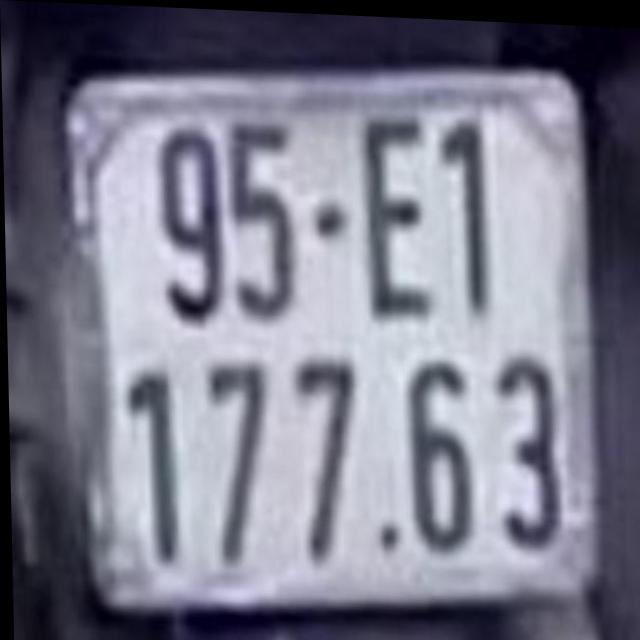1: (123, 372, 184, 556), (439, 120, 491, 299)
3: (499, 355, 560, 539)
5: (228, 124, 294, 319)
6: (406, 359, 474, 545)
7: (297, 352, 354, 569), (202, 353, 257, 566)
9: (155, 128, 228, 314)
E: (360, 112, 427, 313)
